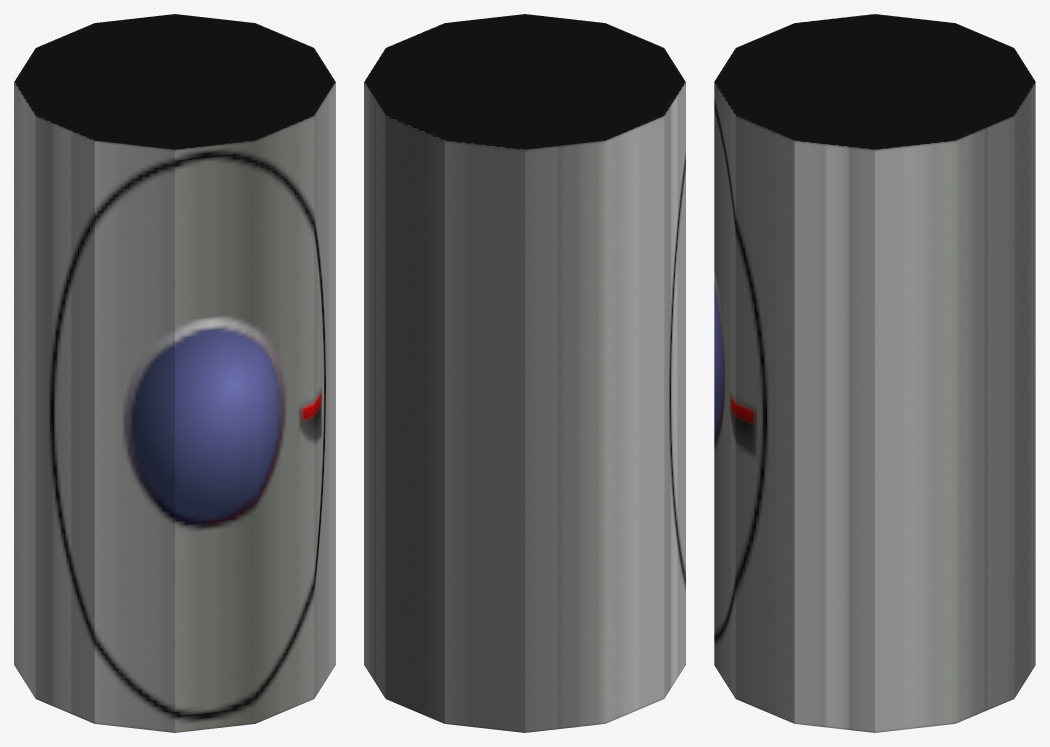
The model's file is escape_pod.obj.
3 renders of one model, left to right at view 1: azimuth 30°, elevation 25°; view 2: azimuth 150°, elevation 25°; view 3: azimuth 270°, elevation 25°, orthographic.
Parts seen in each view (by area): view 1: Cylinder; view 2: Cylinder; view 3: Cylinder.
Boxes of the visible parts, x1,y1,x2,y2 form: Cylinder: (14, 14, 335, 732); Cylinder: (364, 14, 685, 732); Cylinder: (714, 14, 1035, 732).
Bounding box in the file's own units: 1 × 2 × 1.
